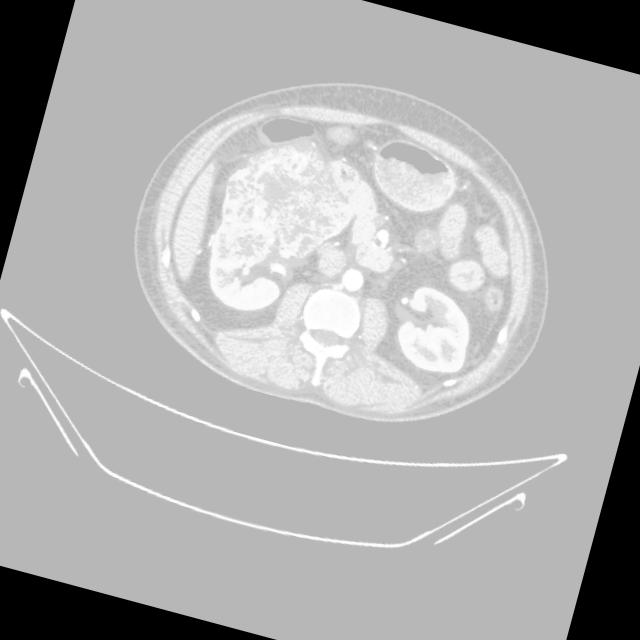TUMOR: (240, 124, 517, 361)
